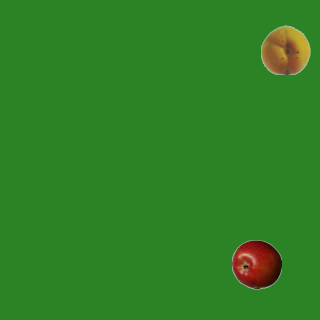Apple Braeburn: (231, 239, 281, 289)
Peach 2: (260, 24, 310, 74)
